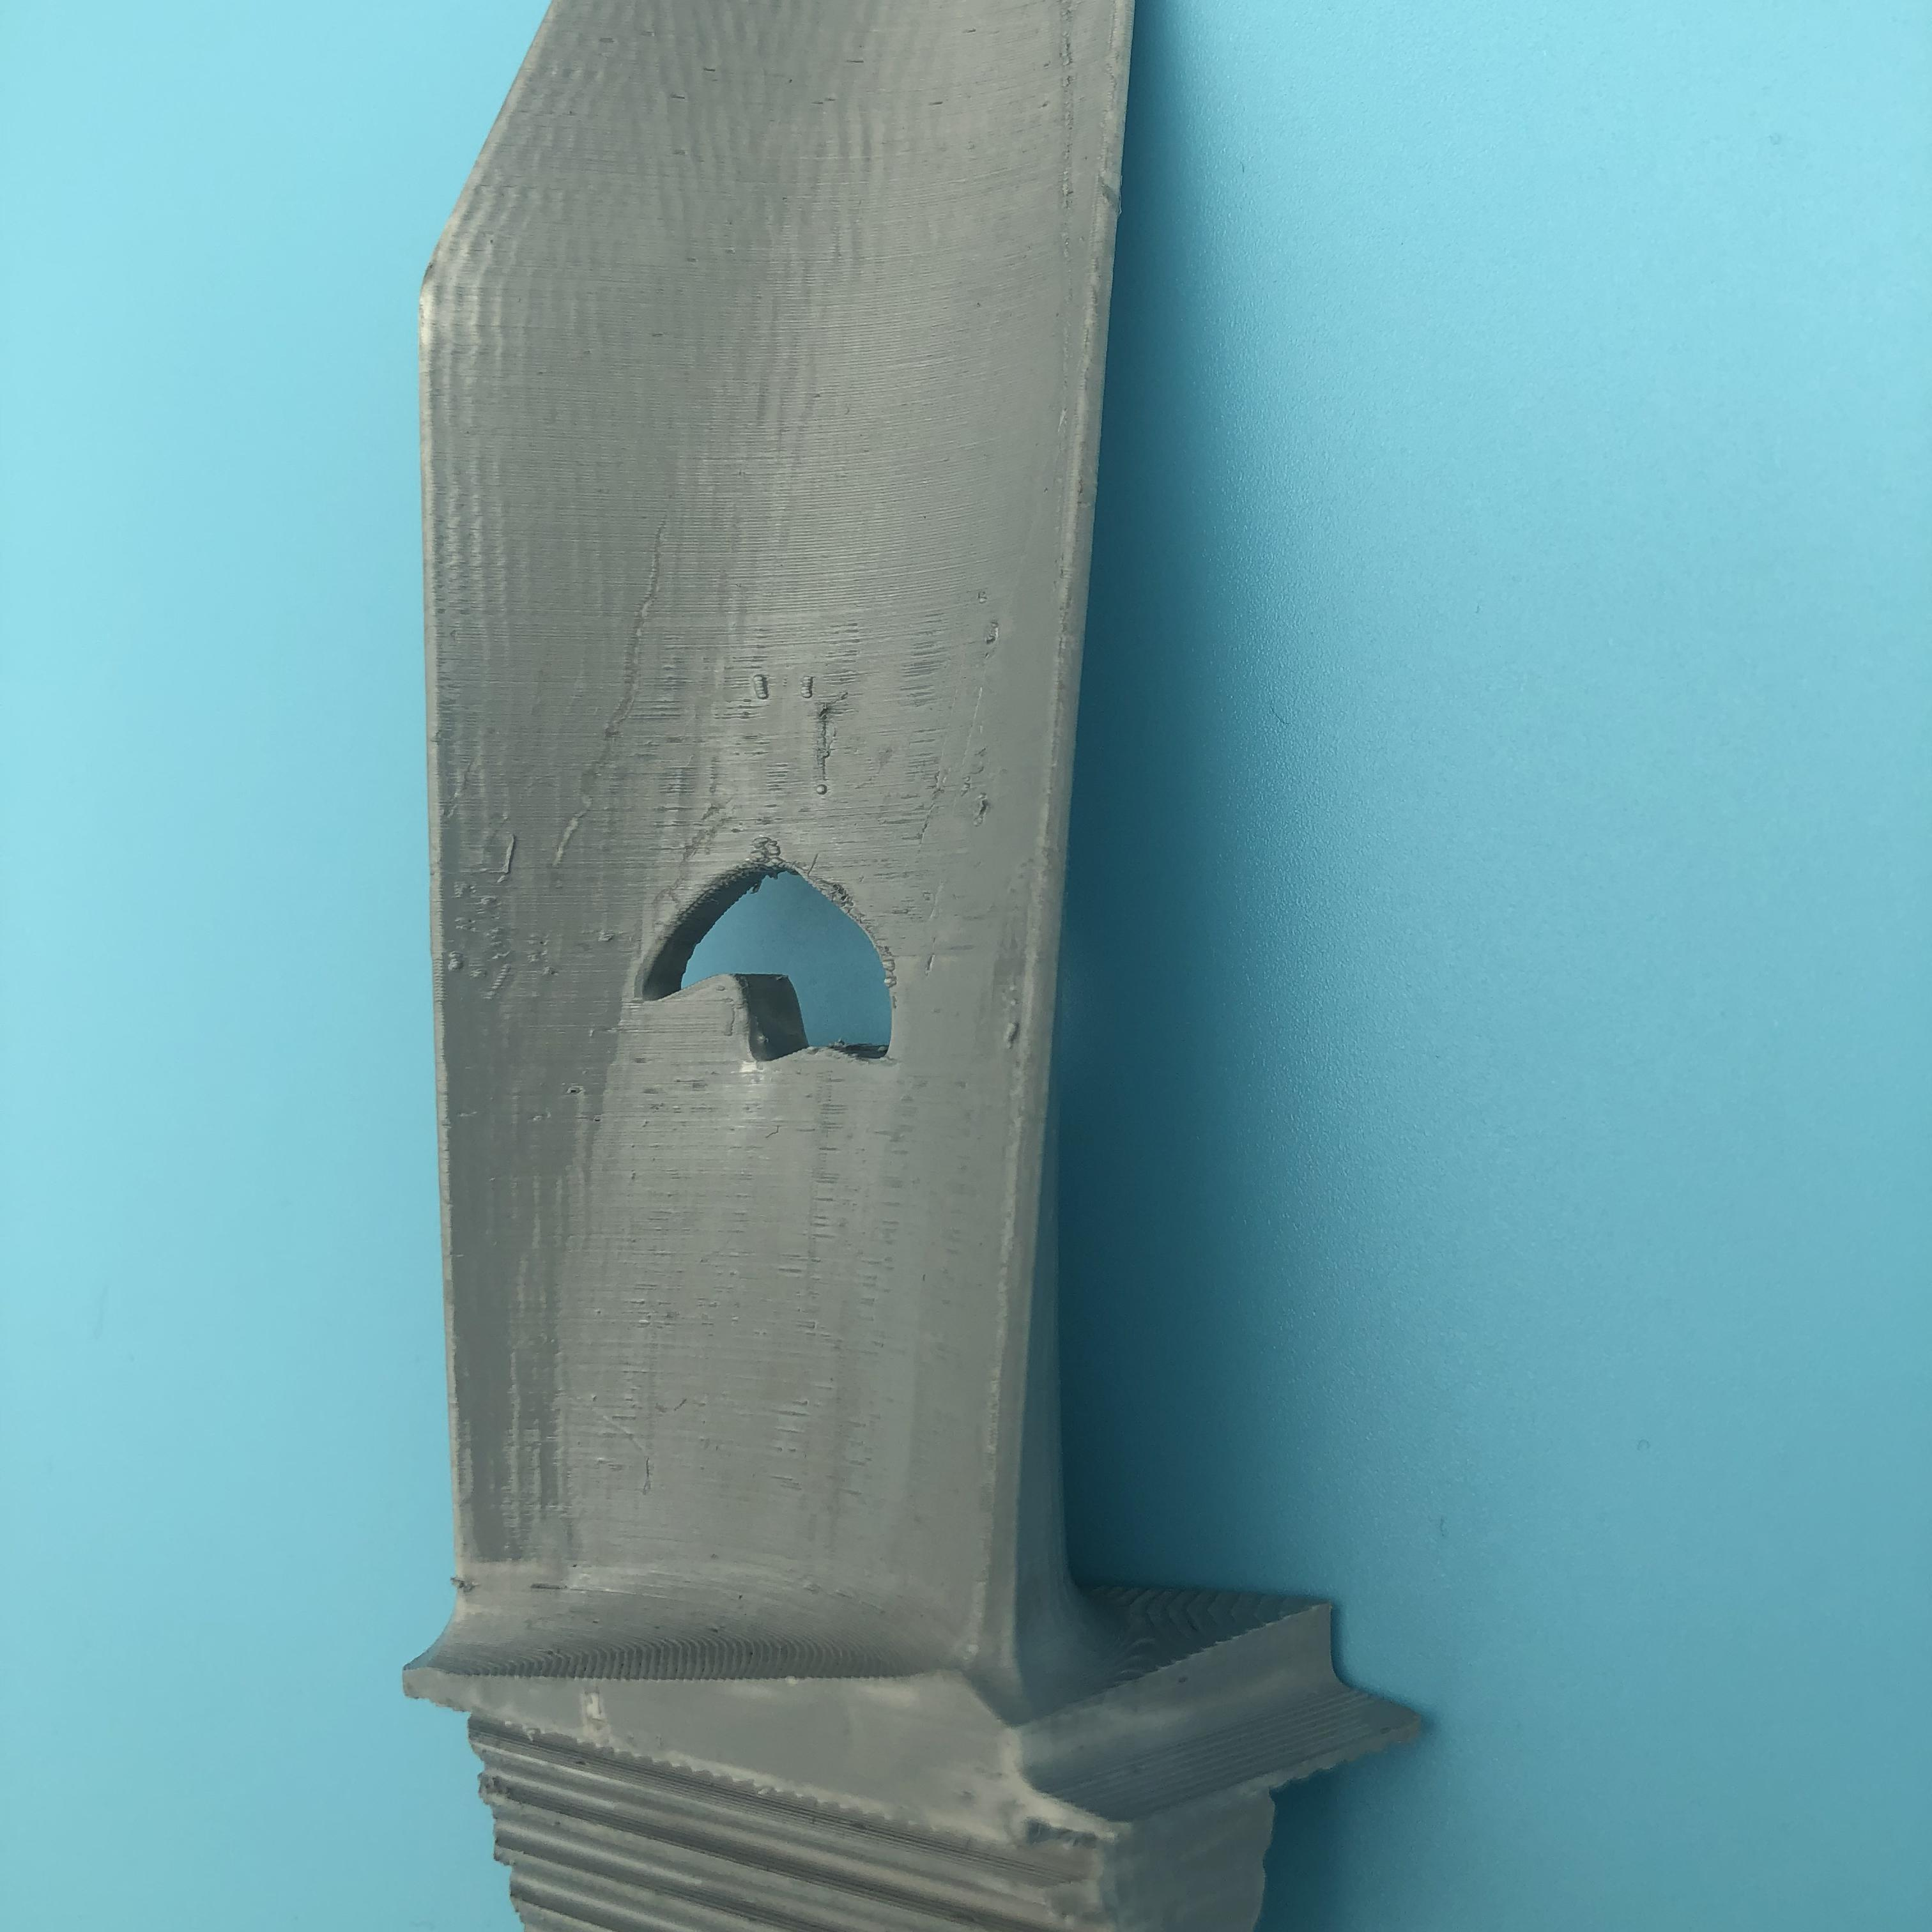breakdown: (635, 856, 925, 1099)
